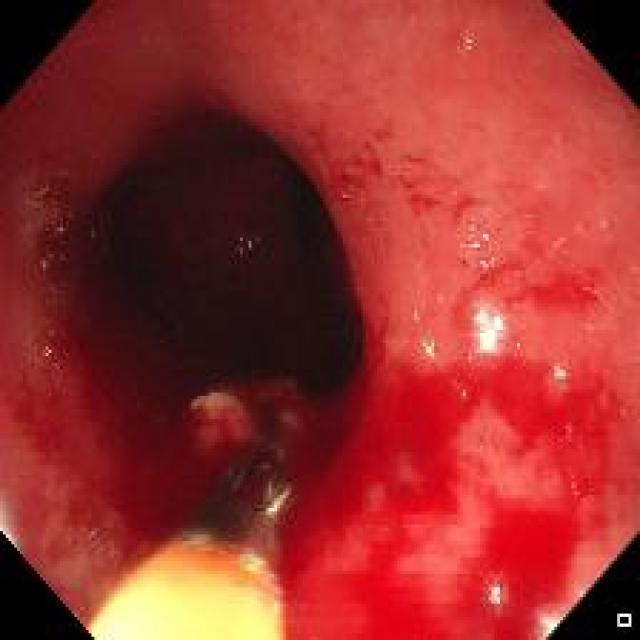blood: (29, 216, 278, 574), (305, 342, 608, 632)
bubbles: (235, 229, 263, 264)
color misalignment: (177, 532, 284, 604), (485, 571, 513, 621), (545, 356, 573, 388), (459, 31, 478, 58), (261, 503, 285, 524), (257, 460, 274, 473), (86, 526, 97, 540), (43, 346, 53, 358), (44, 329, 54, 338)
contrast: (76, 105, 357, 420)
instrument: (68, 420, 287, 635)
specularity: (477, 326, 501, 354), (462, 228, 490, 251), (414, 339, 438, 364), (535, 612, 565, 631), (490, 312, 512, 336), (472, 304, 488, 330)
